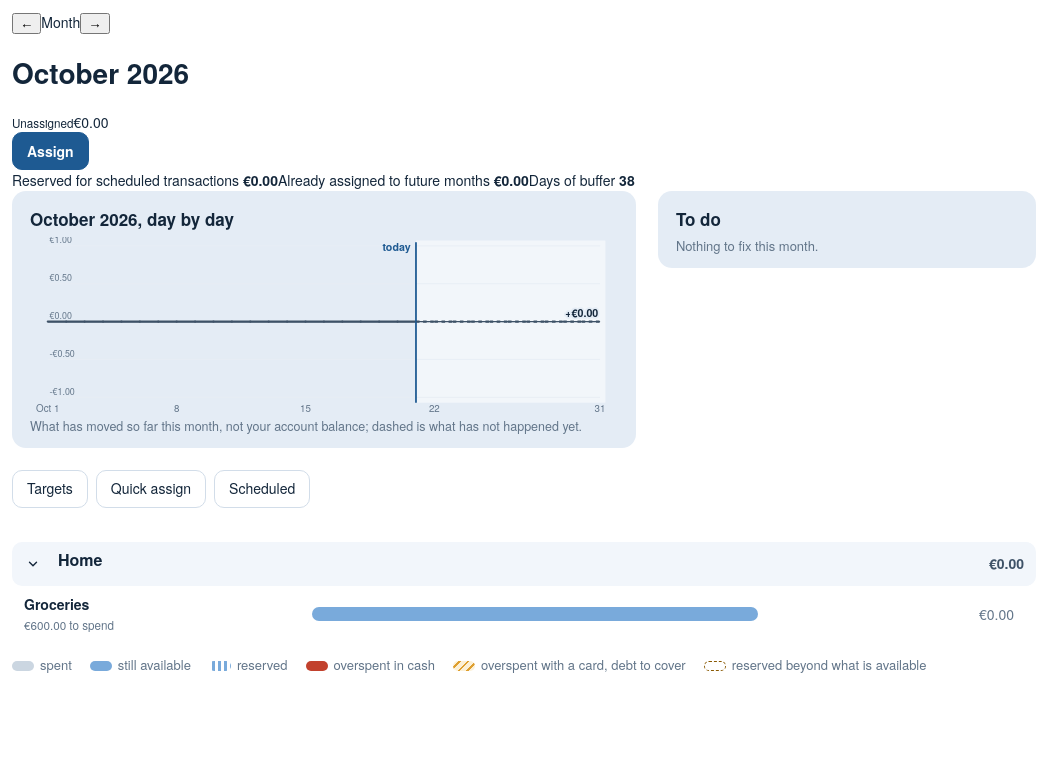
Scenario: BudgetScreen (#53, #324) › opens a category's own row detail on click, and closes it again on a second click (#327)
The image size is (1048, 780).
Expected: the text "Groceries" is shown, left=24, top=594, right=89, bottom=614
Step 1. Click the button "Groceries €600.00 to spend €0.00" → click(524, 614), box left=12, top=586, right=1036, bottom=642
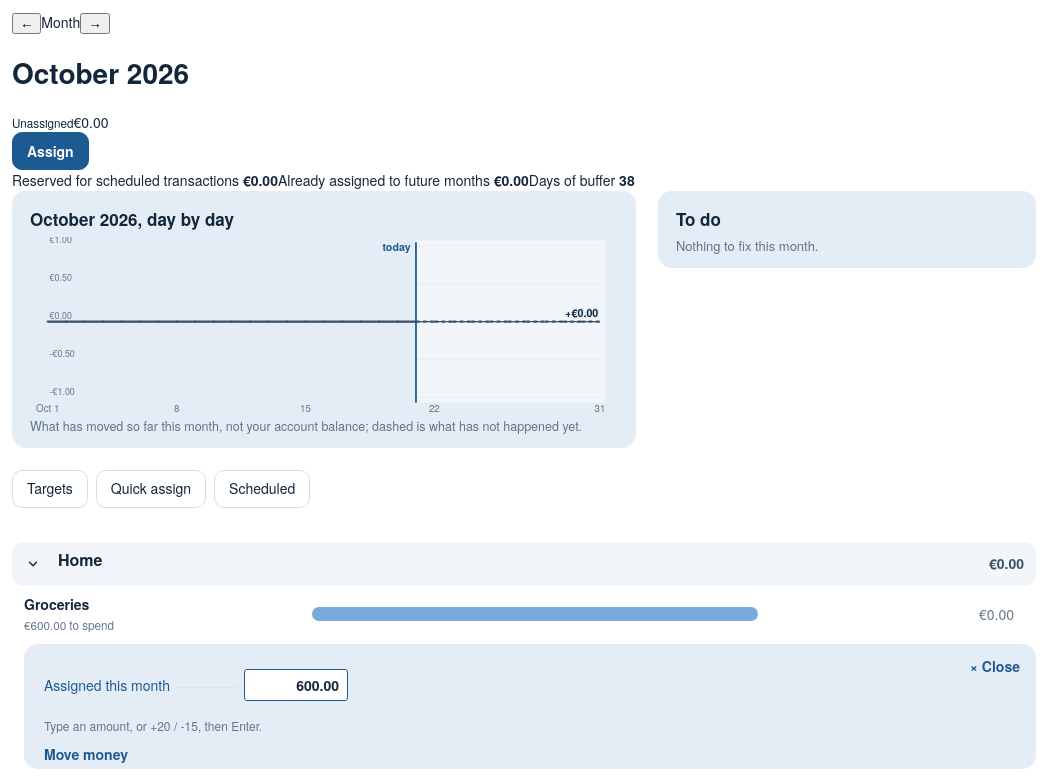
Result: the field labelled "Assigned this month" holds "600.00" at left=244, top=669, right=348, bottom=701
Step 2. Click the button "Groceries €600.00 to spend €0.00" → click(524, 614), box left=12, top=586, right=1036, bottom=642
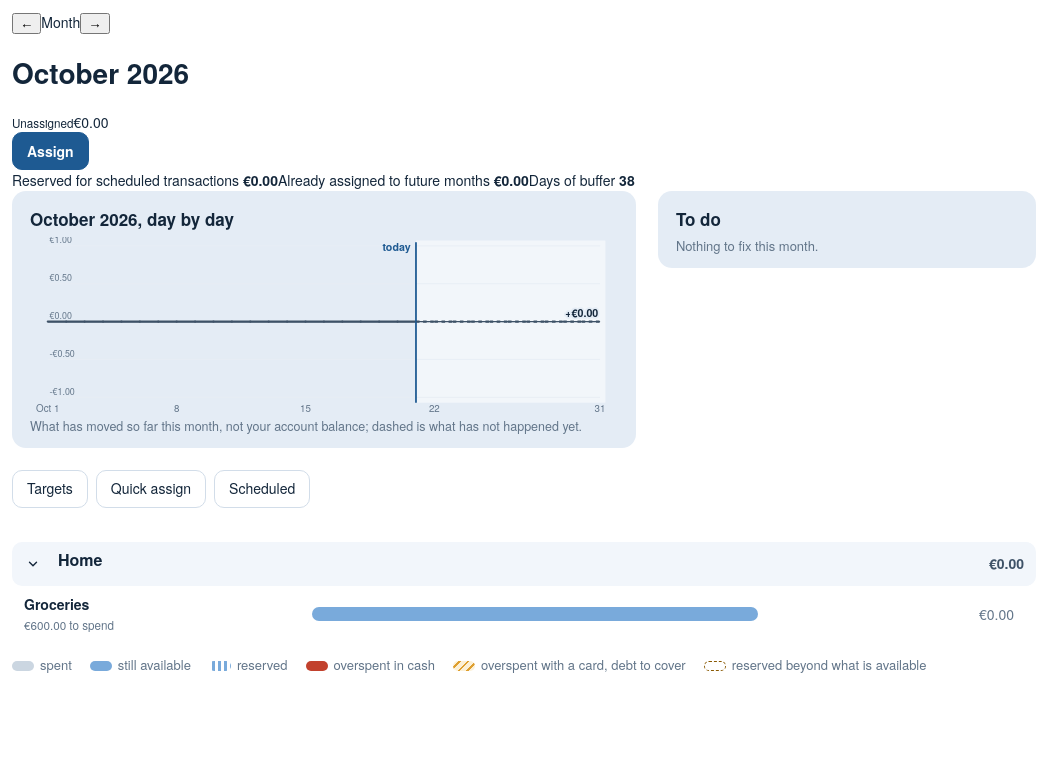
Result: the label labelled "Assigned this month" is gone
